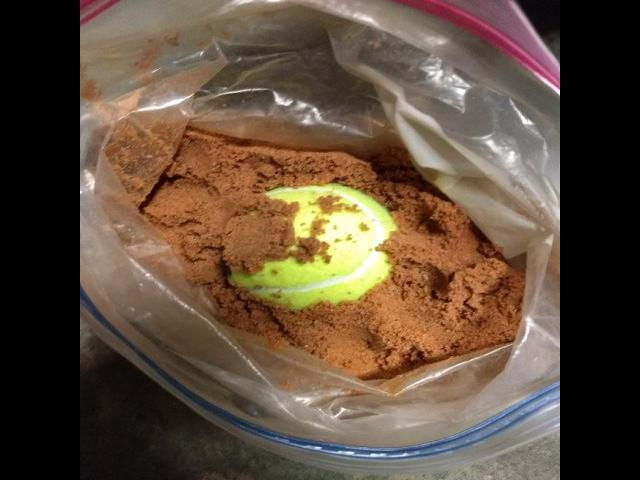tennis-ball: (225, 185, 401, 311)
